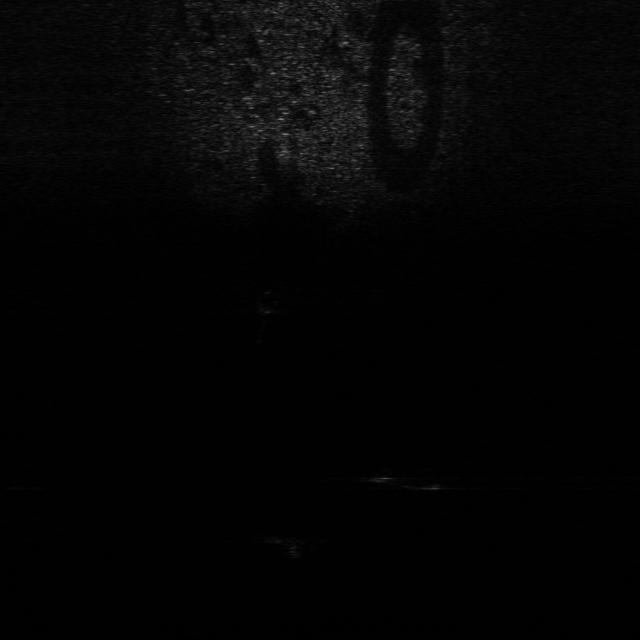ball: (253, 289, 287, 315)
metal bucket: (262, 527, 319, 567)
tyre: (363, 460, 459, 498)
